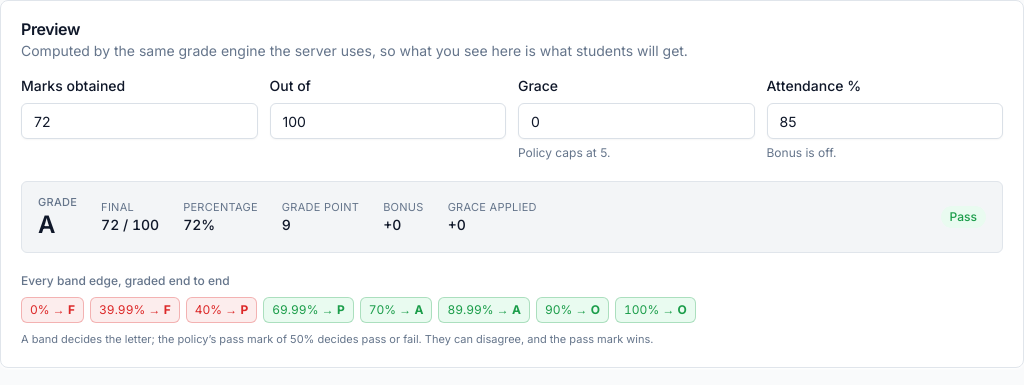
Scenario: GradeBandPreview › shows the policy pass mark overriding a more generous band
Replace the text in the number field labelled "Marks obtained" with "45": {"x": 139, "y": 121} [21,103,258,139]
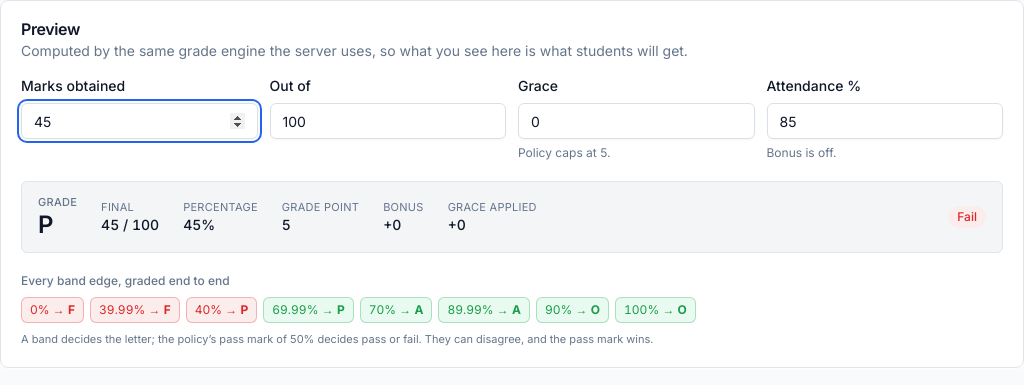
Expected: the text "Fail" is shown, [948,206,986,228]
Expected: the text "P" next to "Final" is shown, [38,210,54,239]
